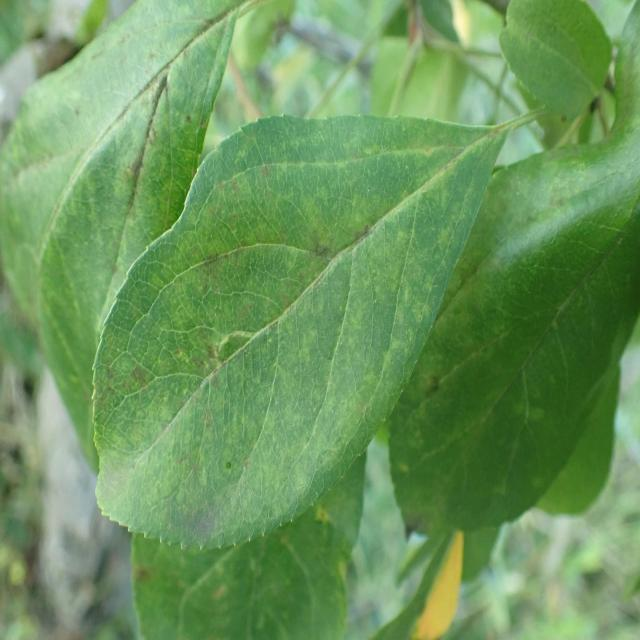scab: (80, 119, 465, 550), (417, 130, 616, 511), (74, 0, 214, 208), (121, 544, 354, 640)
